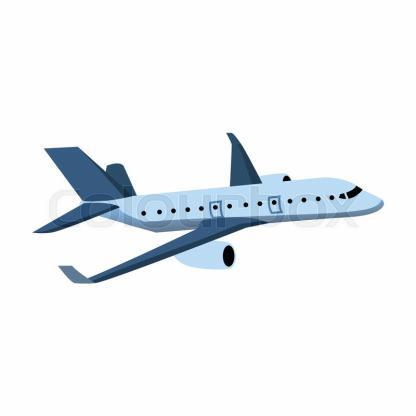CIV_Plane: (26, 132, 387, 284)
